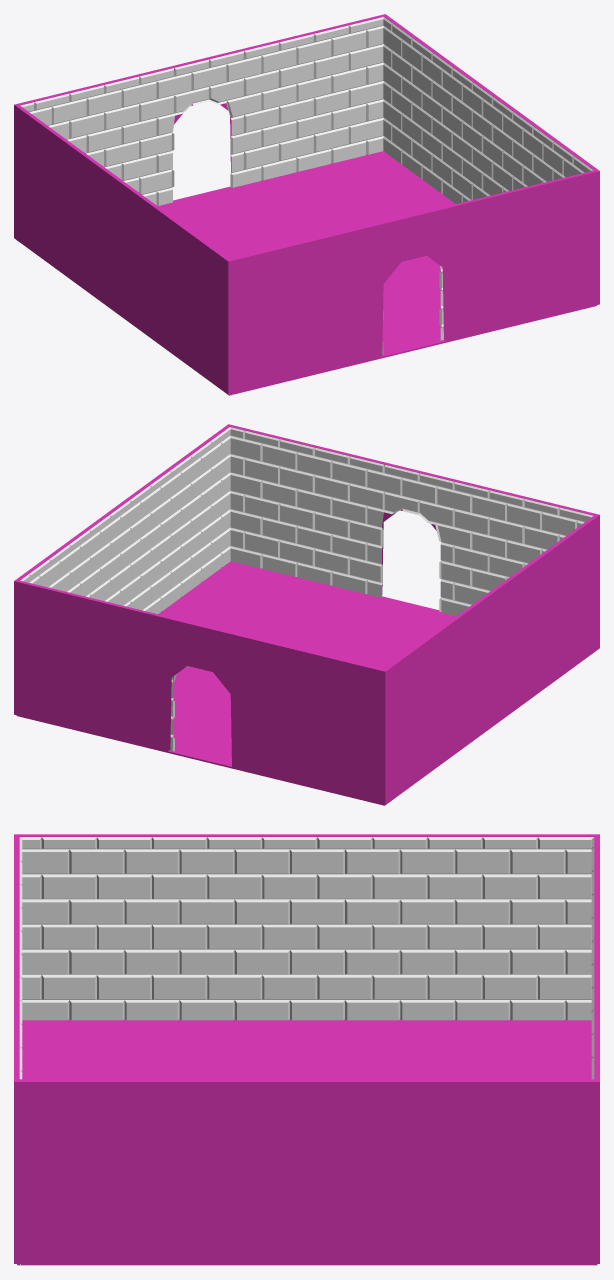
3 views of the same model, one above another, from view 1: azimuth 30°, elevation 25°; view 2: azimuth 150°, elevation 25°; view 3: azimuth 270°, elevation 25° (orthographic). The views are drawn at different scales.
Visible parts, largest first — view 1: Cube.007; view 2: Cube.007; view 3: Cube.007.
Boxes of the visible parts, x1,y1,x2,y2 form: Cube.007: (14, 14, 599, 395); Cube.007: (14, 424, 599, 805); Cube.007: (14, 834, 599, 1265).
Bounding box in the file's own units: 2020 × 2020 × 703.
